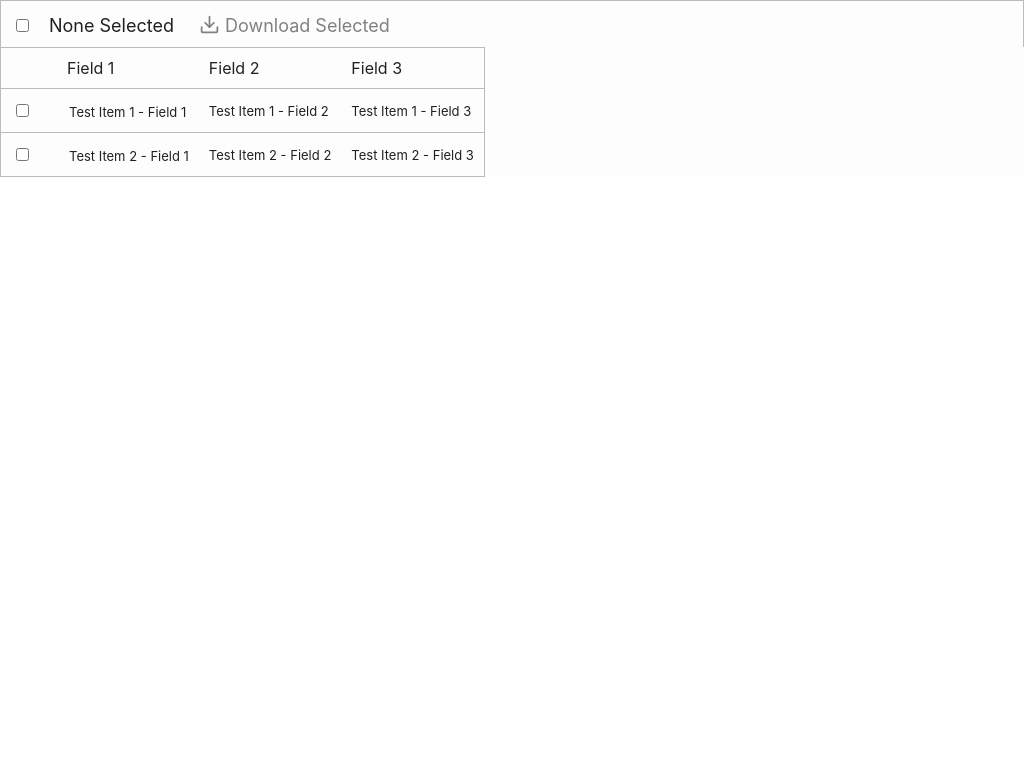
DownloadList › closes the modal when the user clicks the OK button
What coordinates should you click on to do the following:
click the checkbox with class "select-all-checkbox"
I would click on:
 (22, 26)
Its box is [16, 19, 29, 32].
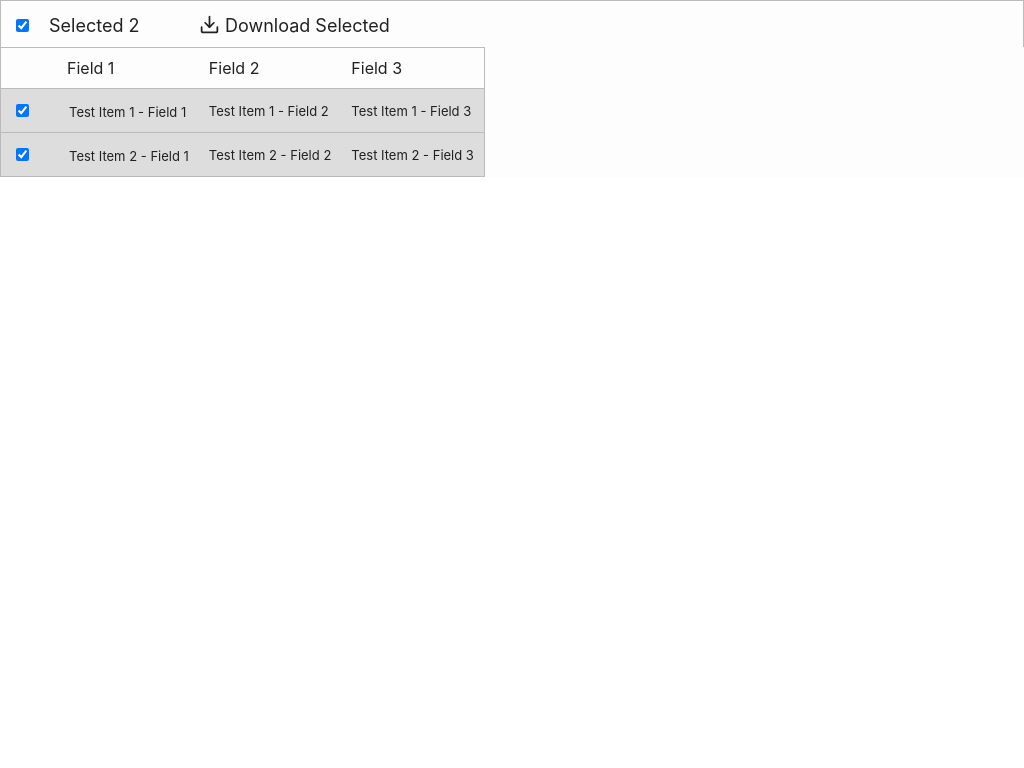
What coordinates should you click on to do the following:
click the button with class "download-btn"
I would click on:
 (294, 24)
Its box is [194, 6, 395, 41].
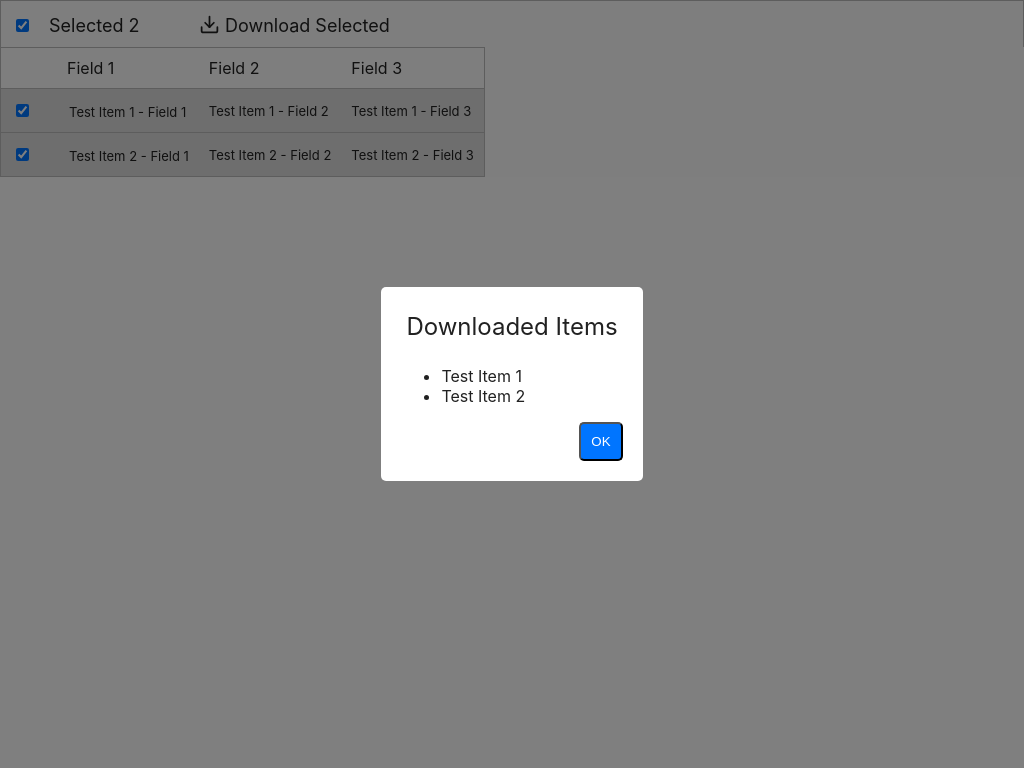
What coordinates should you click on to do the following:
click the button "OK"
I would click on:
 (601, 442)
Its box is [579, 422, 623, 461].
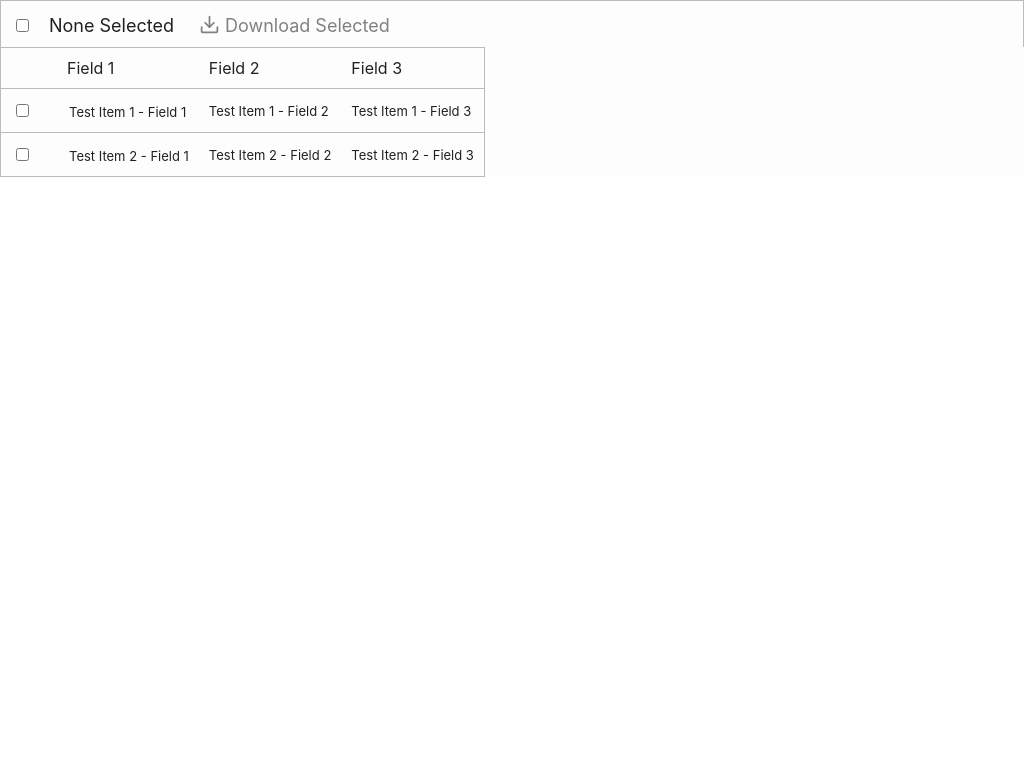
Now the heading "Downloaded Items" is gone
